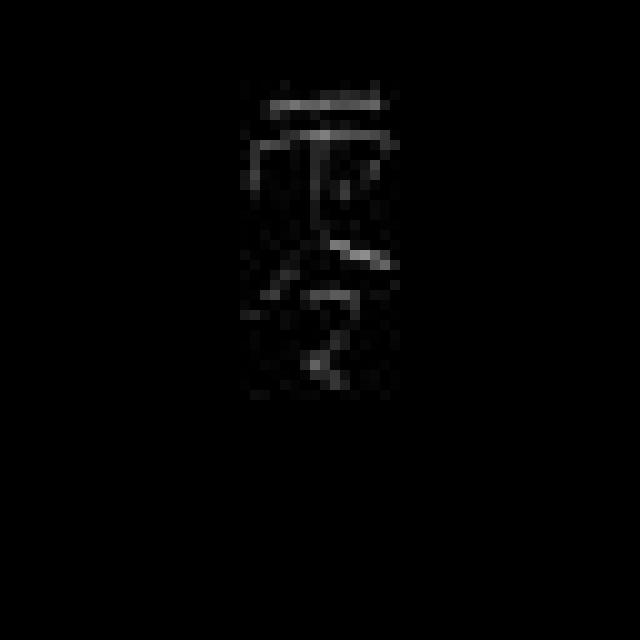0 -zero-: (237, 85, 403, 392)
